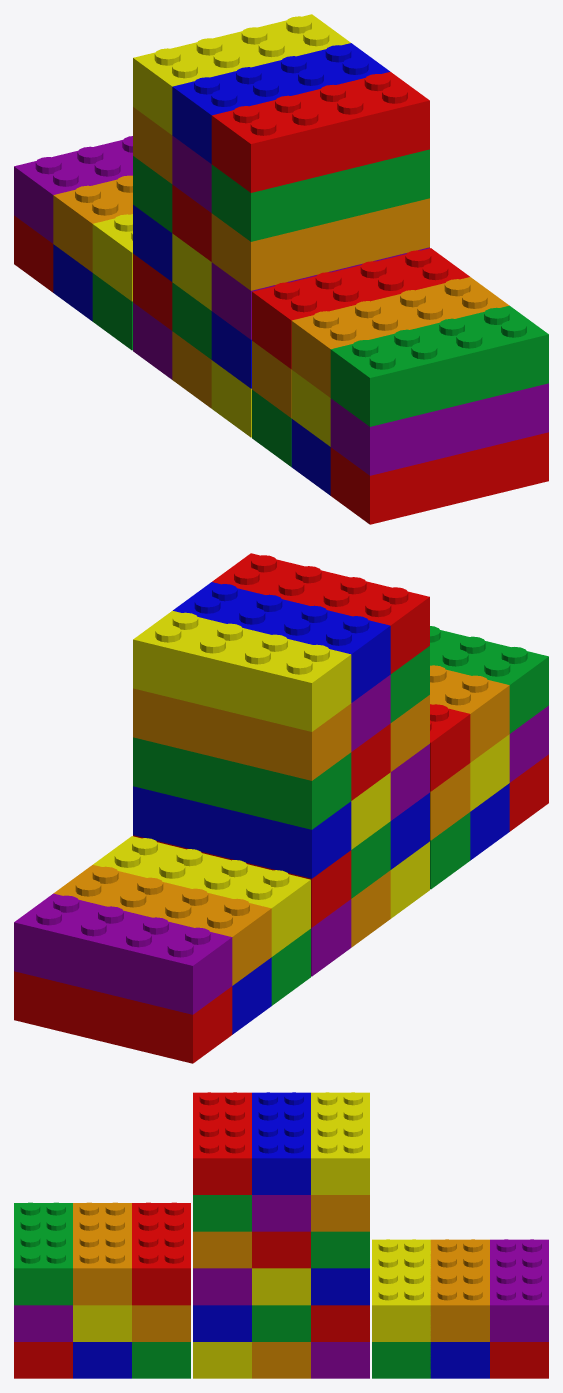
File: podium_01.fbx
The picture shows the model from 3 angles, top to bottom: view 1: azimuth 30°, elevation 25°; view 2: azimuth 150°, elevation 25°; view 3: azimuth 270°, elevation 25°; orthographic projection. The views are drawn at different scales.
Visible parts, largest first — view 1: polySurface34, polySurface35, polySurface33; view 2: polySurface34, polySurface33, polySurface35; view 3: polySurface34, polySurface35, polySurface33.
Boxes of the visible parts, <box> form: polySurface34: <box>133,14,429,437</box>; polySurface35: <box>252,248,548,524</box>; polySurface33: <box>14,136,132,350</box>; polySurface34: <box>133,553,429,976</box>; polySurface33: <box>14,836,310,1063</box>; polySurface35: <box>430,626,548,889</box>; polySurface34: <box>193,1092,369,1378</box>; polySurface35: <box>14,1202,190,1378</box>; polySurface33: <box>372,1239,548,1378</box>.
Size of the model in its own units: 2 by 3.2 by 6.89.
